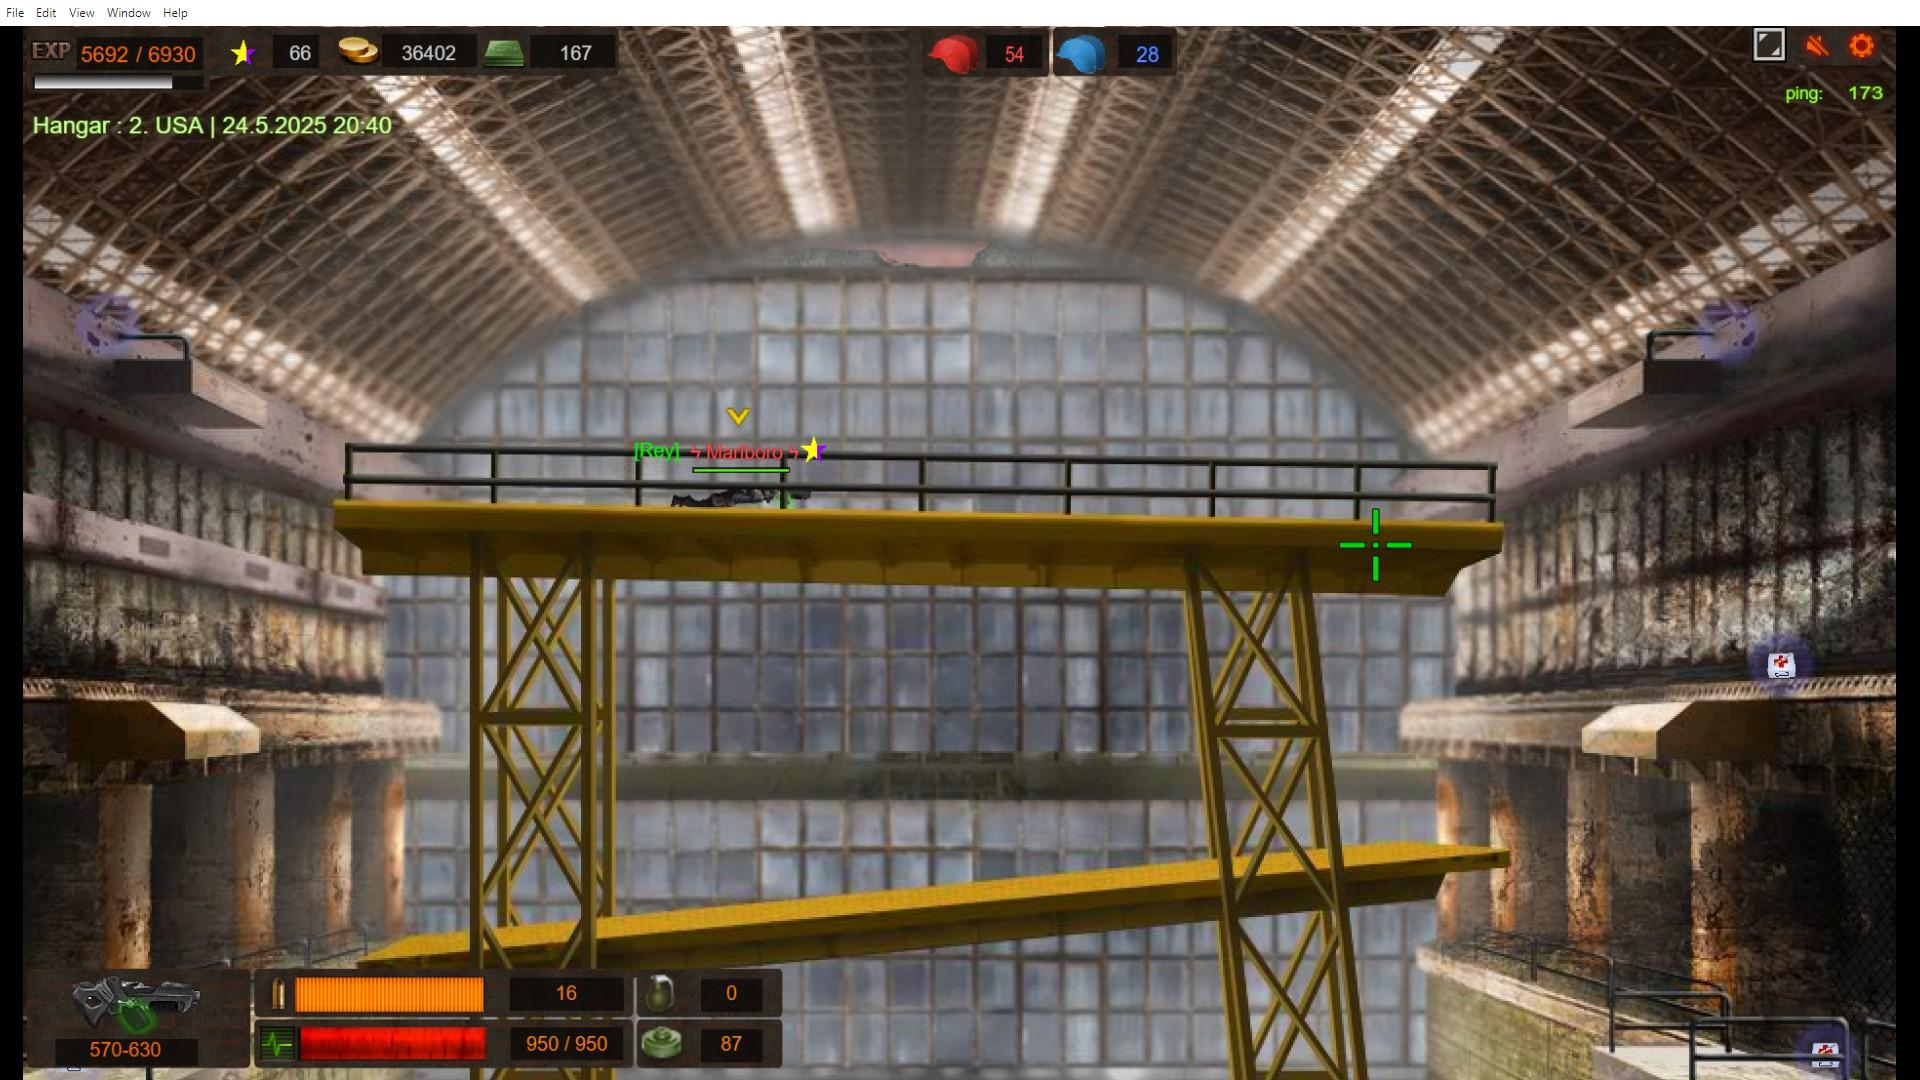enemy: (670, 489, 770, 510)
